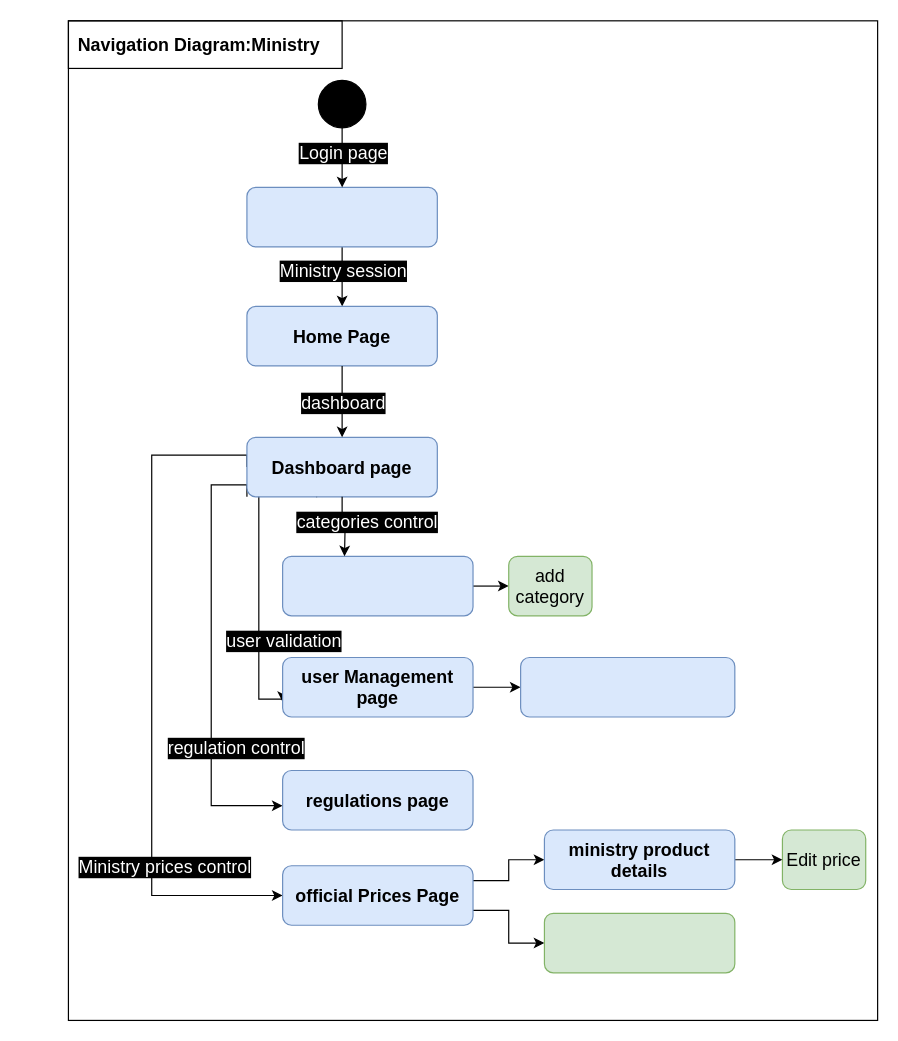
The diagram is 898 pixels wide and 1041 high, and some of its shapes have lost their labels. Here are the shapes that lost their labels. From the top down, the centre of each, then its label:
(341,216): Login
(377,585): Categories page
(627,686): user information and documents page
(639,942): Add New Product's Price
